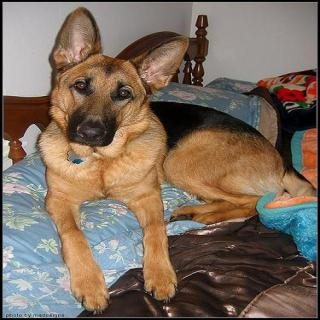dog: (34, 5, 201, 159)
nose: (74, 122, 108, 144)
